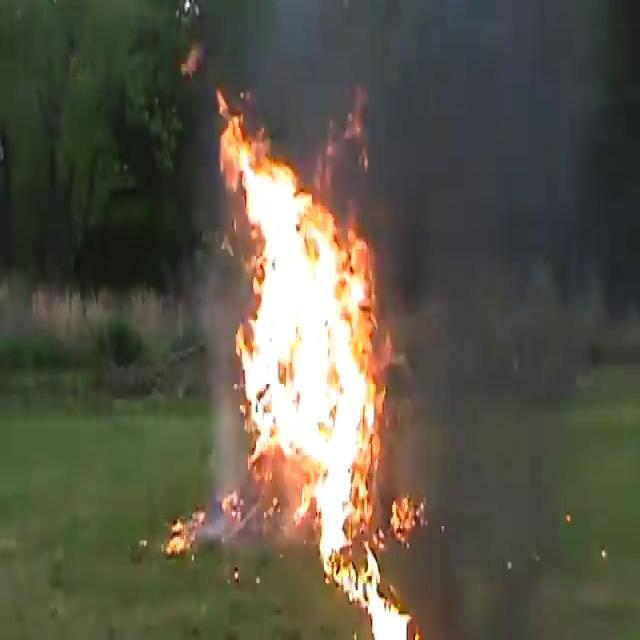Fire: (221, 82, 415, 608), (163, 496, 215, 556)
